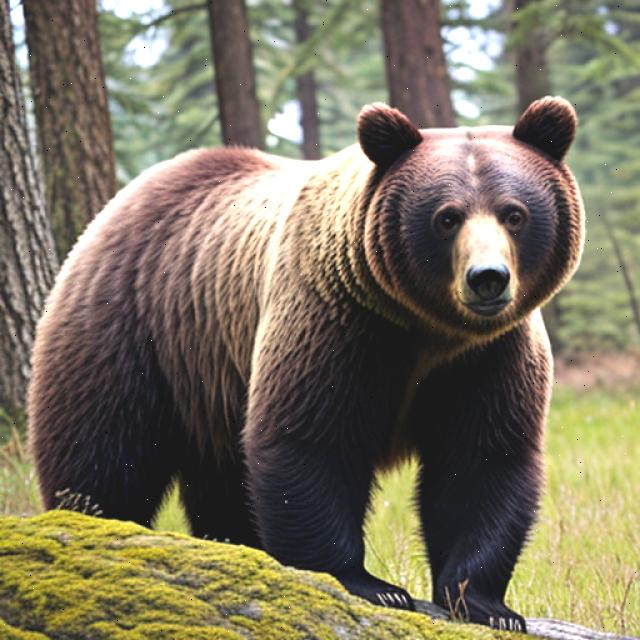bear: (346, 95, 590, 342)
